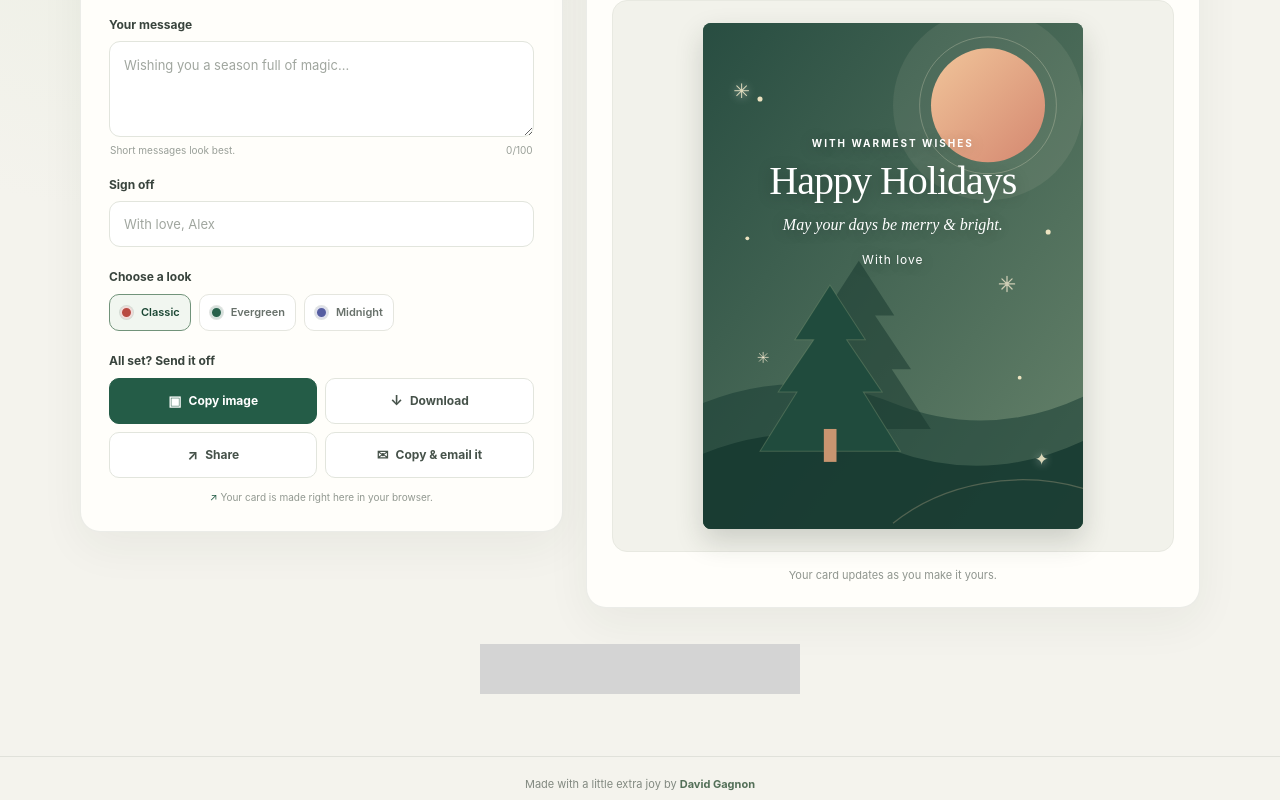
it: reports when image copying is unavailable
The width and height of the screenshot is (1280, 800).
(page scrolled)
Click the button "▣ Copy image": [213, 401] box [109,378,317,424]
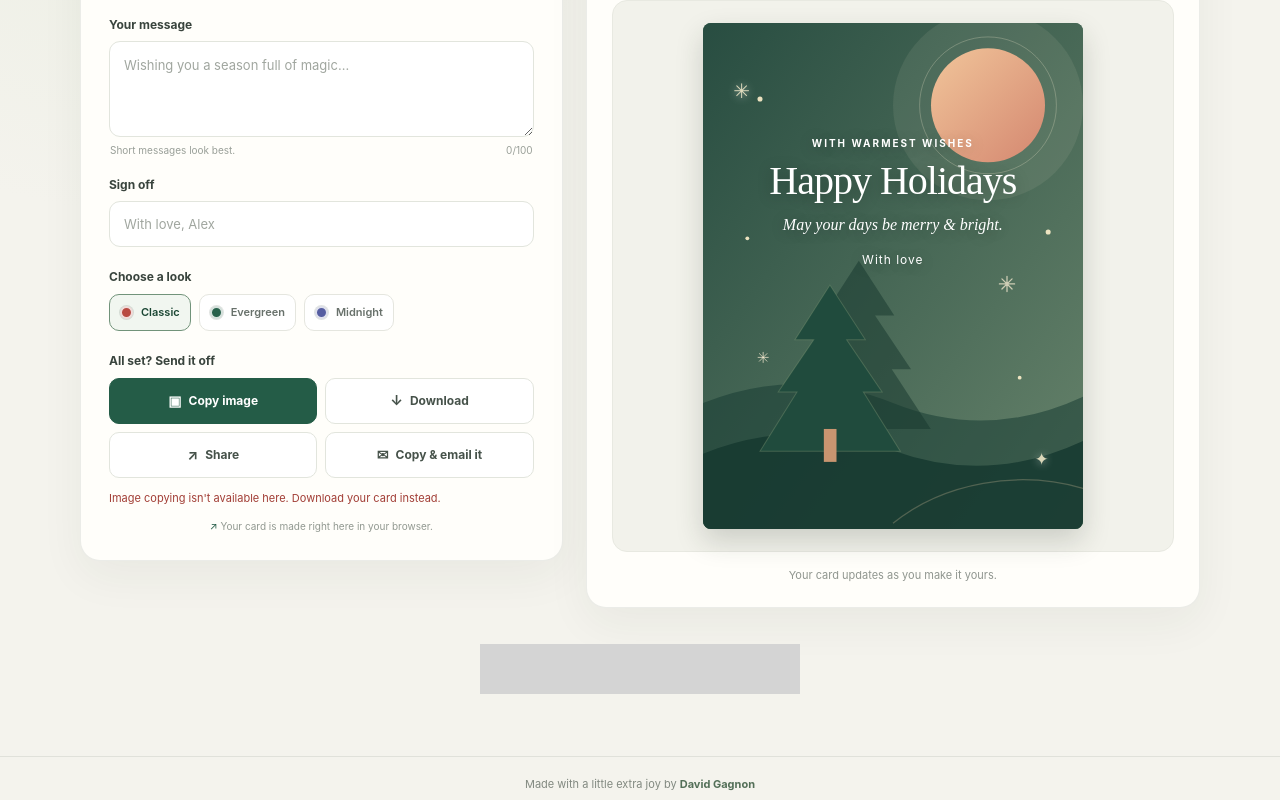
expect the message "Image copying isn't available here. Download your card instead." is shown: met, box [109,491,441,505]
